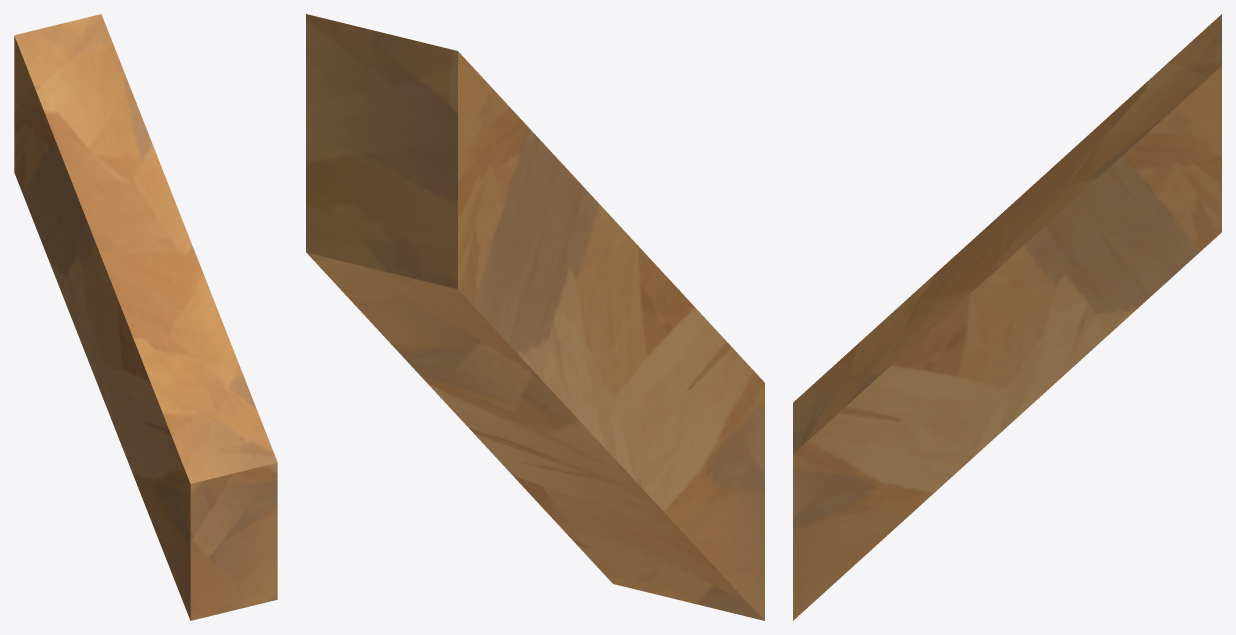
Rendered from RoofEaveCorner.fbx.
3 renders of one model, left to right at view 1: azimuth 30°, elevation 25°; view 2: azimuth 150°, elevation 25°; view 3: azimuth 270°, elevation 25°, orthographic. The views are drawn at different scales.
Visible parts, largest first — view 1: RoofEaveCorner; view 2: RoofEaveCorner; view 3: RoofEaveCorner.
Boxes of the visible parts, left/top/right/bottom form: RoofEaveCorner: left=14, top=14, right=277, bottom=620; RoofEaveCorner: left=306, top=14, right=764, bottom=620; RoofEaveCorner: left=793, top=14, right=1221, bottom=620.
Size of the model in its own units: 0.1 by 0.5 by 0.35.
